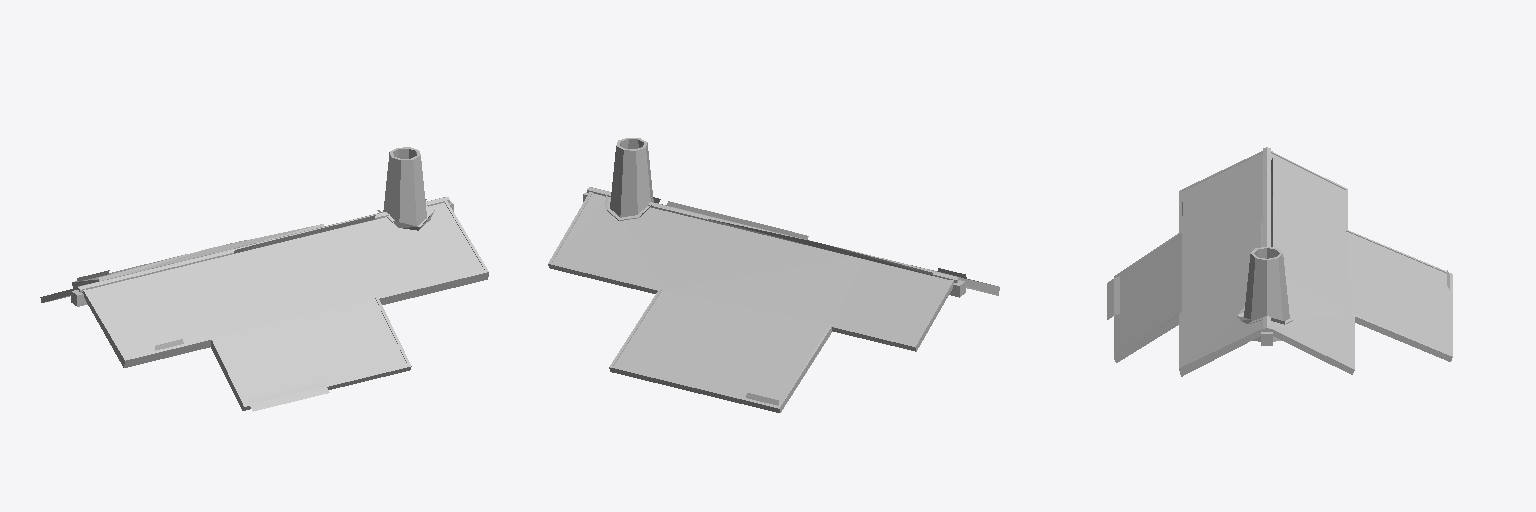
Rendered from RoofMounted.obj.
3 renders of one model, left to right at view 1: azimuth 30°, elevation 25°; view 2: azimuth 150°, elevation 25°; view 3: azimuth 270°, elevation 25°, orthographic.
Parts seen in each view (by area): view 1: HouseRoof_Cube.034; view 2: HouseRoof_Cube.034; view 3: HouseRoof_Cube.034.
Part boxes in pixels (bbox=[...]): HouseRoof_Cube.034: bbox=[40, 147, 488, 411]; HouseRoof_Cube.034: bbox=[548, 138, 999, 412]; HouseRoof_Cube.034: bbox=[1107, 147, 1452, 376].
Size of the model in its own units: 26.63 by 9.77 by 21.19.